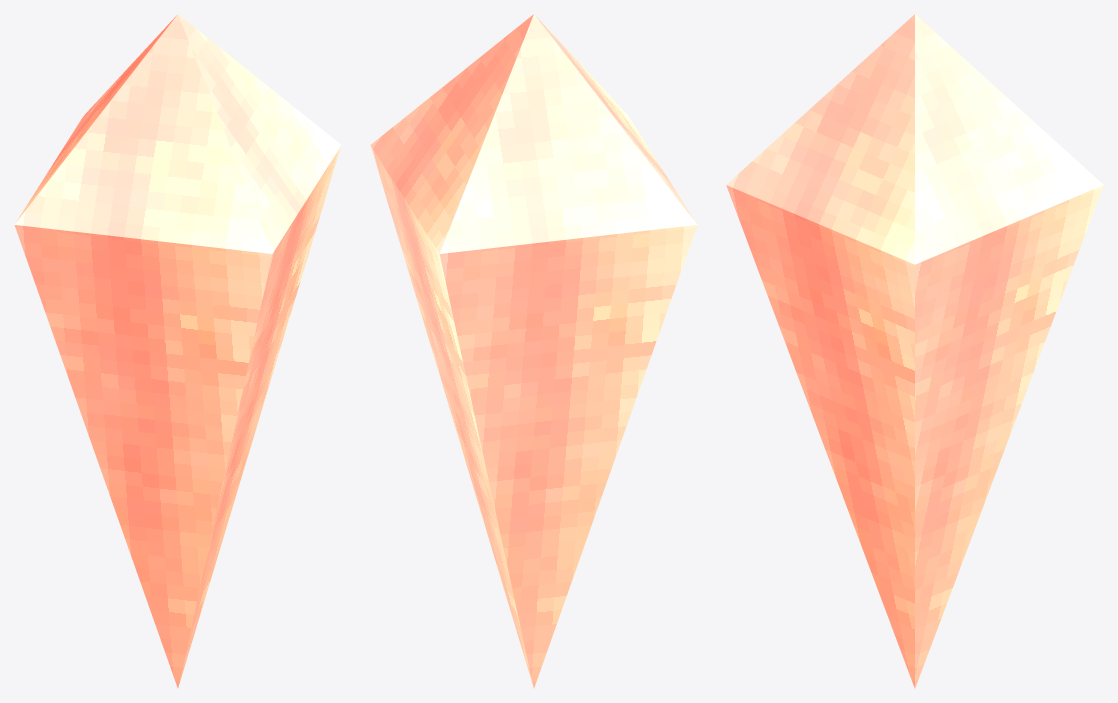
The model's file is carrot.glb.
3 views of the same model, side by side, from view 1: azimuth 30°, elevation 25°; view 2: azimuth 150°, elevation 25°; view 3: azimuth 270°, elevation 25° (orthographic).
Visible parts, largest first — view 1: carrot; view 2: carrot; view 3: carrot.
Part boxes in pixels (<box>): carrot: <box>14,14,341,688</box>; carrot: <box>370,14,697,688</box>; carrot: <box>726,14,1103,688</box>.
Size of the model in its own units: 0.2047 by 0.4037 by 0.2047.
